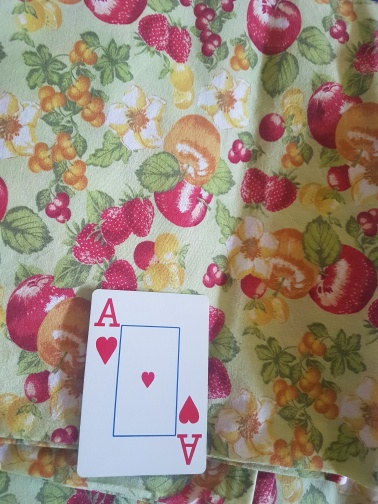ace: (76, 288, 207, 472)
